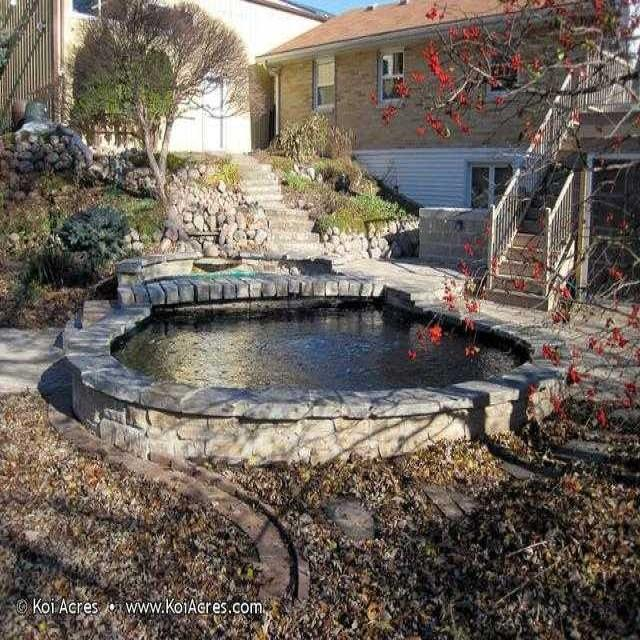Ponds: (68, 272, 591, 426)
